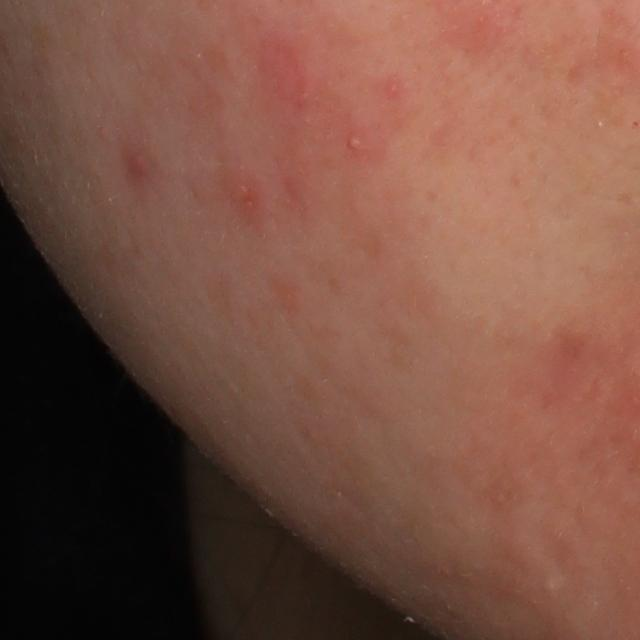papule: (234, 175, 269, 215), (124, 153, 150, 179)
pustule: (343, 130, 369, 153)
